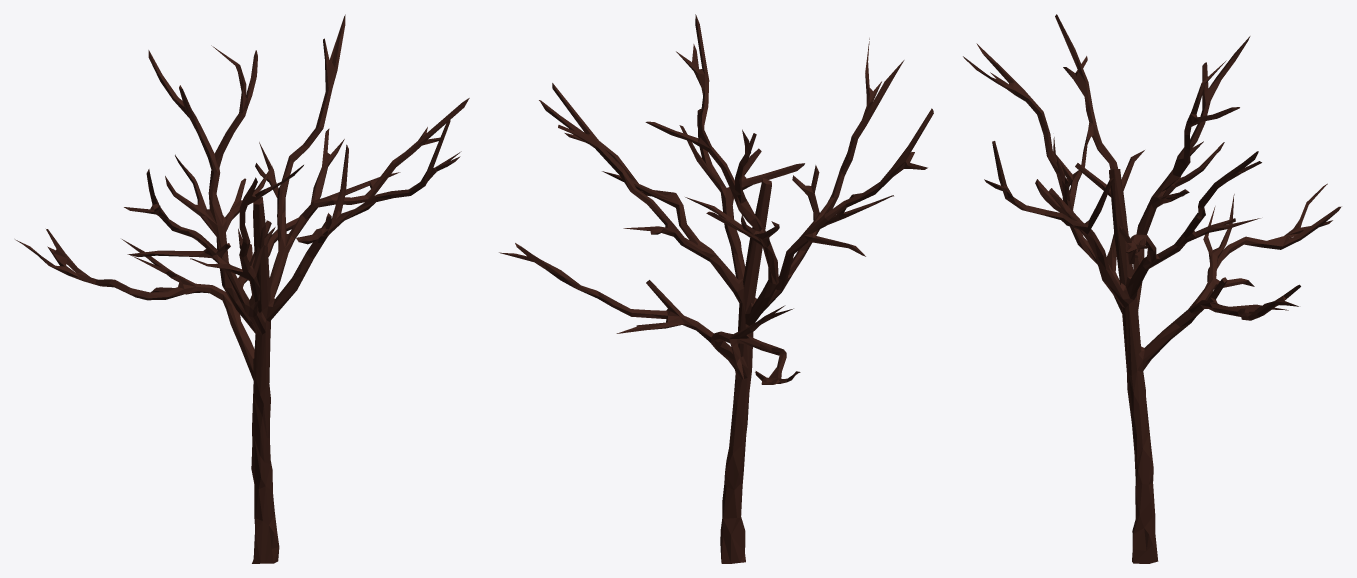
The model's file is dead_tree_d.FBX.
The picture shows the model from 3 angles, left to right: view 1: azimuth 30°, elevation 25°; view 2: azimuth 150°, elevation 25°; view 3: azimuth 270°, elevation 25°; orthographic projection.
Parts seen in each view (by area): view 1: dead_tree_d; view 2: dead_tree_d; view 3: dead_tree_d.
Boxes of the visible parts, <box> form: dead_tree_d: <box>15,14,469,563</box>; dead_tree_d: <box>499,14,933,563</box>; dead_tree_d: <box>963,14,1341,563</box>.
Size of the model in its own units: 709 by 911 by 635.
